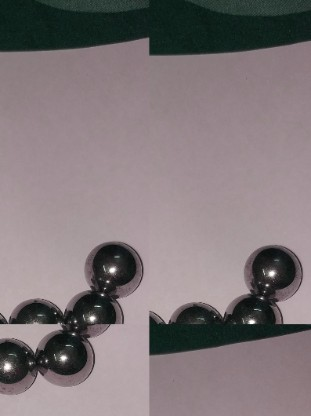ironball: (244, 241, 304, 303), (85, 239, 143, 299), (33, 330, 95, 385), (0, 333, 37, 397), (63, 290, 125, 321), (223, 293, 286, 322), (6, 292, 63, 323), (166, 294, 221, 323), (65, 320, 112, 339)
